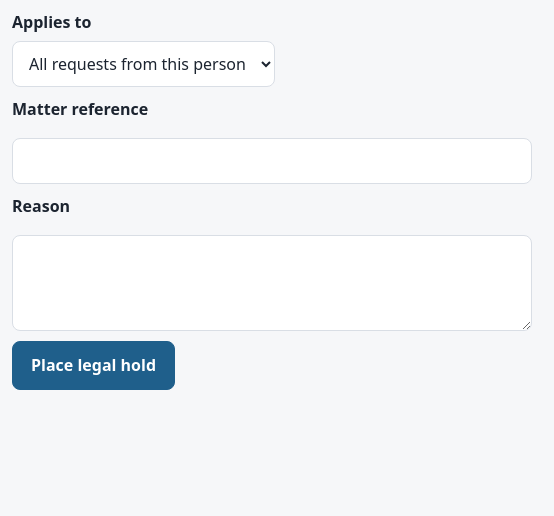
Test: LegalHoldForm › explains a rejected hold and keeps what was typed
The image size is (554, 516).
Type "  LIT-2026-014 " into the field labelled "Matter reference" at (272, 161), box [12,138,532,184]
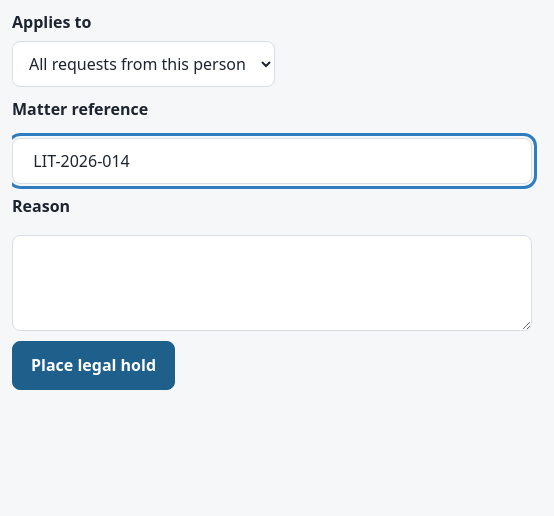
Type " Pending litigation hold. " into the text box labelled "Reason" at (272, 283), box [12,235,532,331]
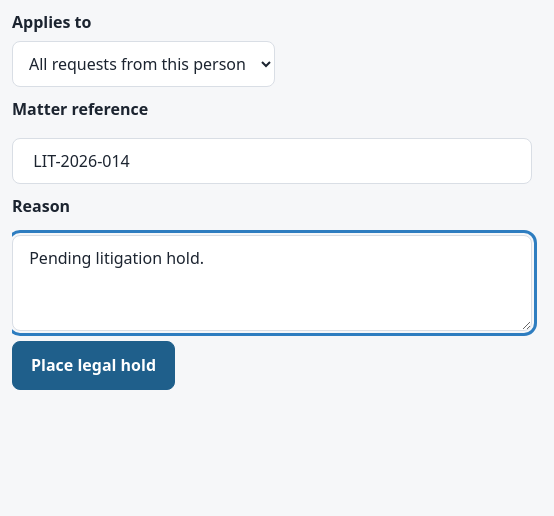
Click the button "Place legal hold" at (94, 366), box [12,341,175,390]
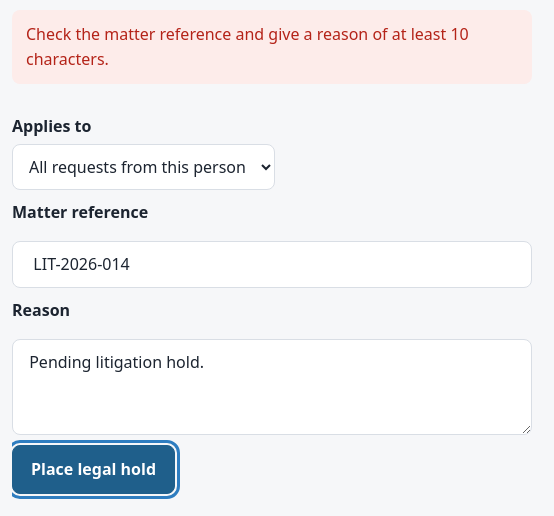
Result: the message shows "Check the matter reference" at [26,23,469,70]
